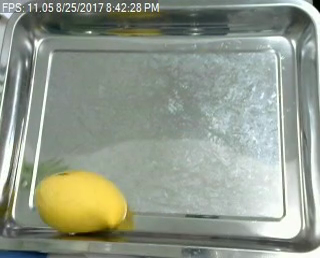Mango: (30, 166, 134, 240)
